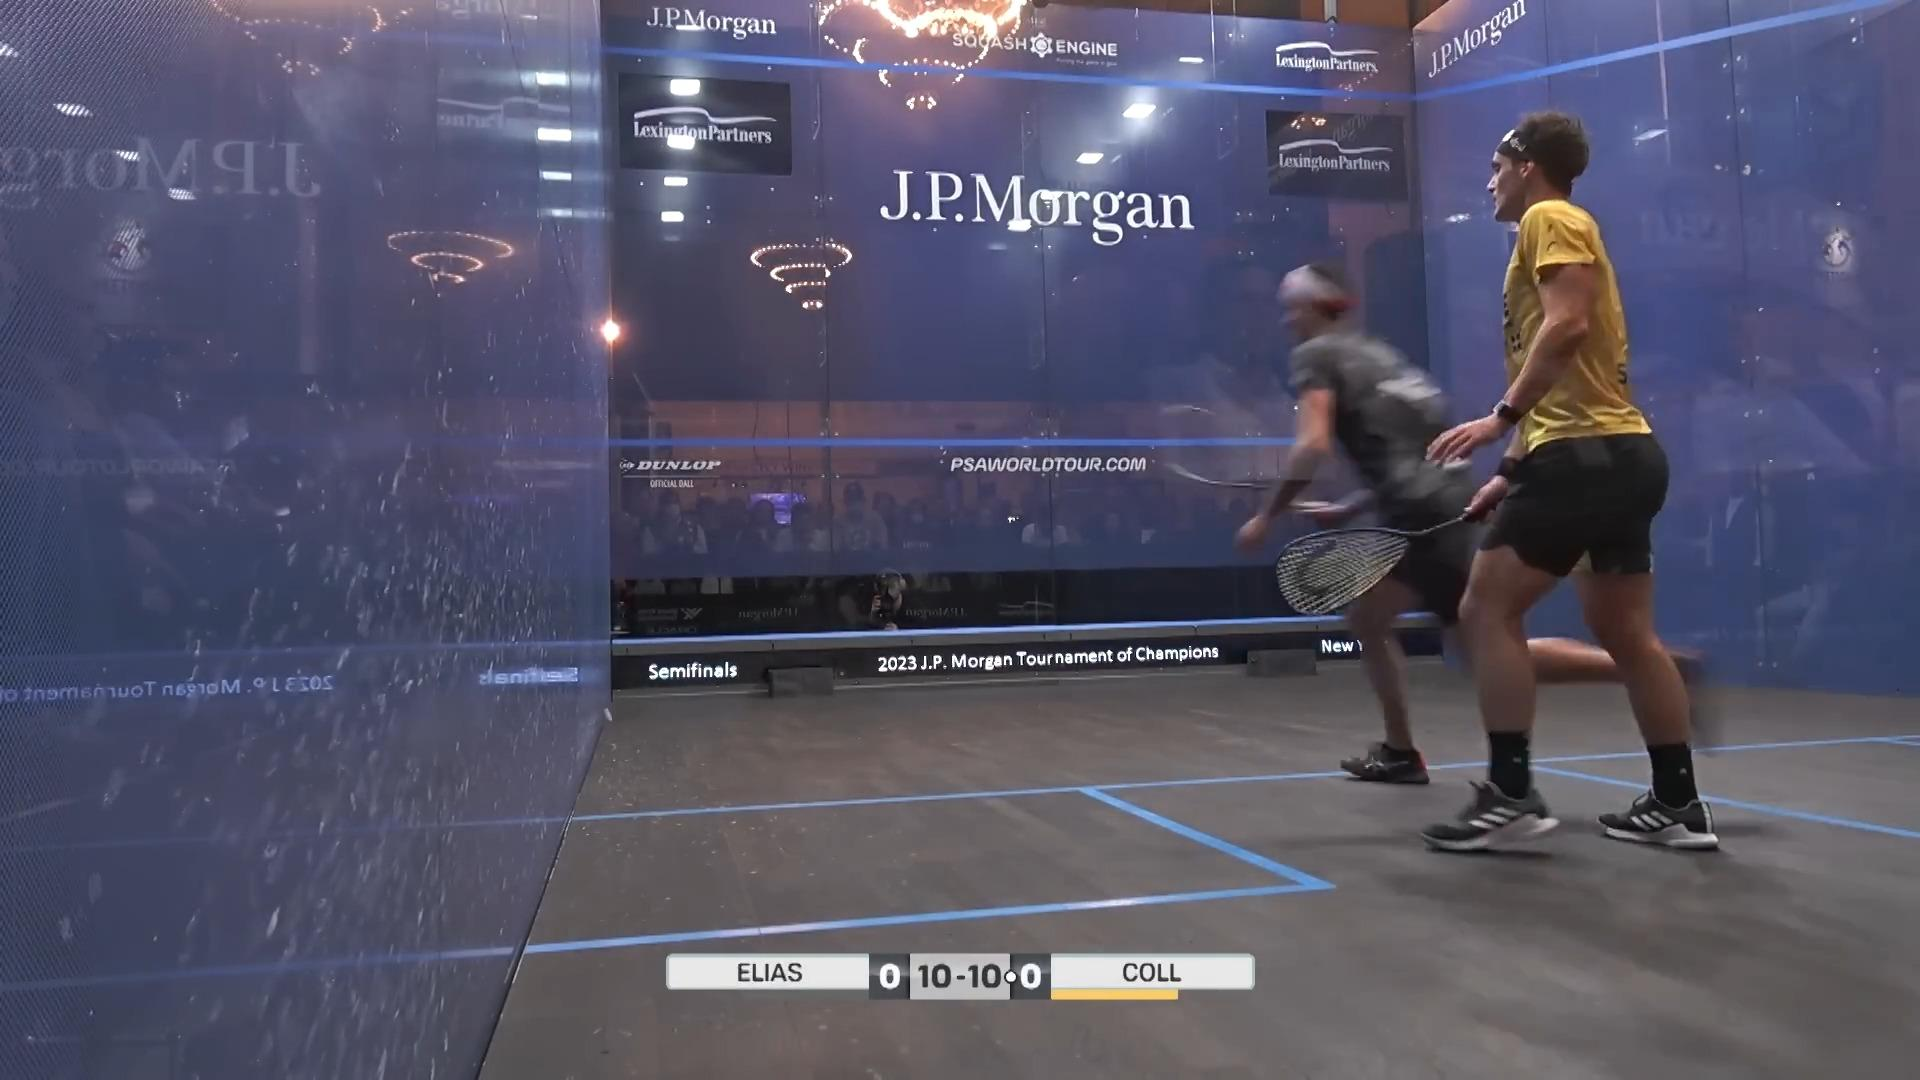Racket: (1270, 496, 1474, 632), (1145, 389, 1270, 492)
